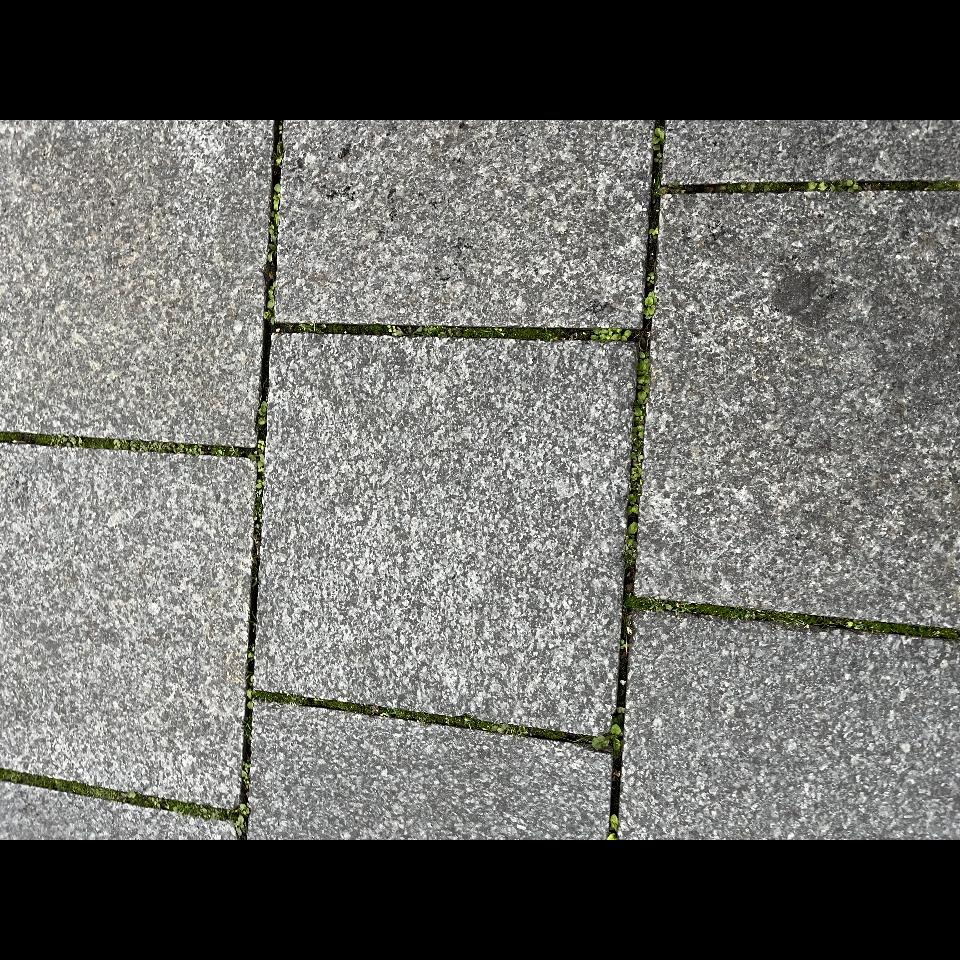weed: (26, 368, 401, 960), (155, 738, 720, 789), (6, 120, 71, 368), (77, 362, 512, 390), (380, 120, 408, 380), (499, 393, 518, 764), (513, 383, 720, 404), (646, 777, 661, 960), (28, 351, 61, 369)
